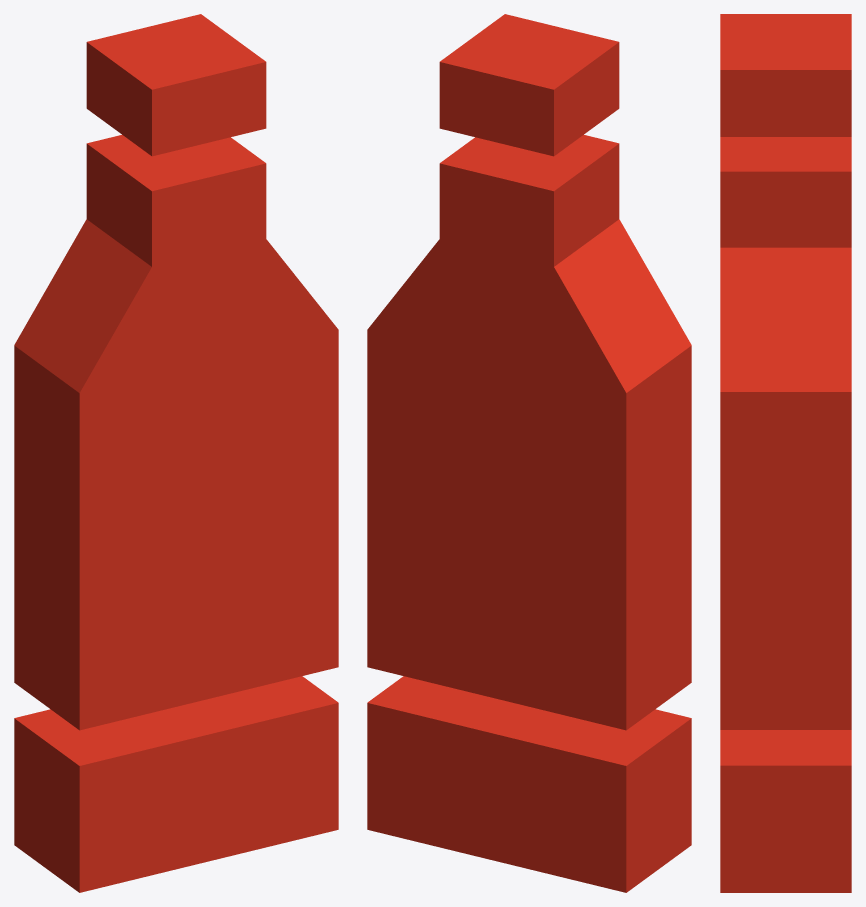
Rendered from Icon_Bottle.fbx.
3 views of the same model, side by side, from view 1: azimuth 30°, elevation 25°; view 2: azimuth 150°, elevation 25°; view 3: azimuth 270°, elevation 25° (orthographic).
Visible parts, largest first — view 1: Icon_Bottle; view 2: Icon_Bottle; view 3: Icon_Bottle.
Part boxes in pixels (left/top/right/bottom): Icon_Bottle: left=14, top=14, right=338, bottom=892; Icon_Bottle: left=367, top=14, right=691, bottom=892; Icon_Bottle: left=720, top=14, right=851, bottom=892.
Bounding box in the file's own units: 27.61 × 79.94 × 12.06.
